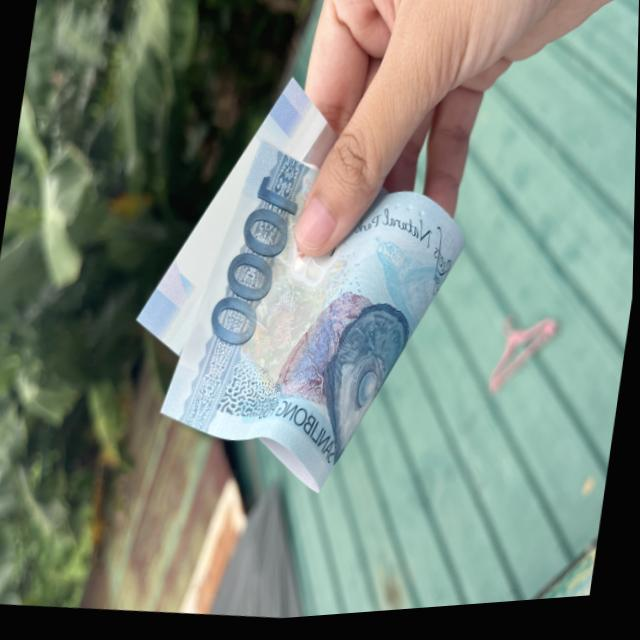value: (195, 156, 307, 380)
